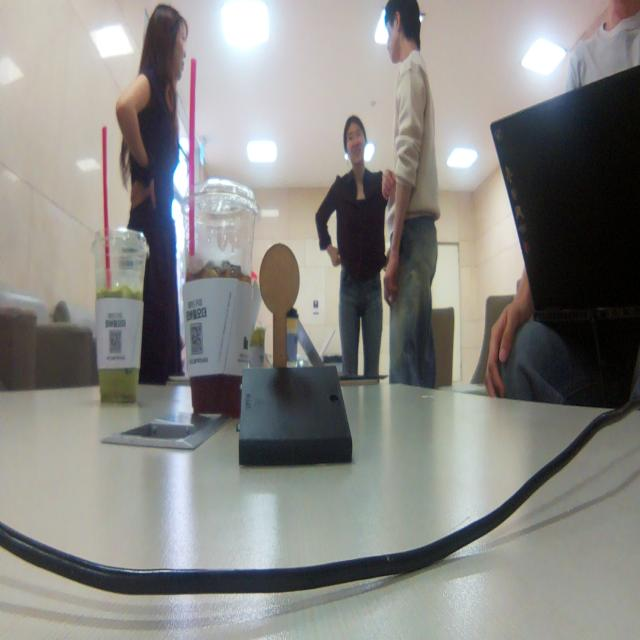target: (238, 243, 321, 463)
